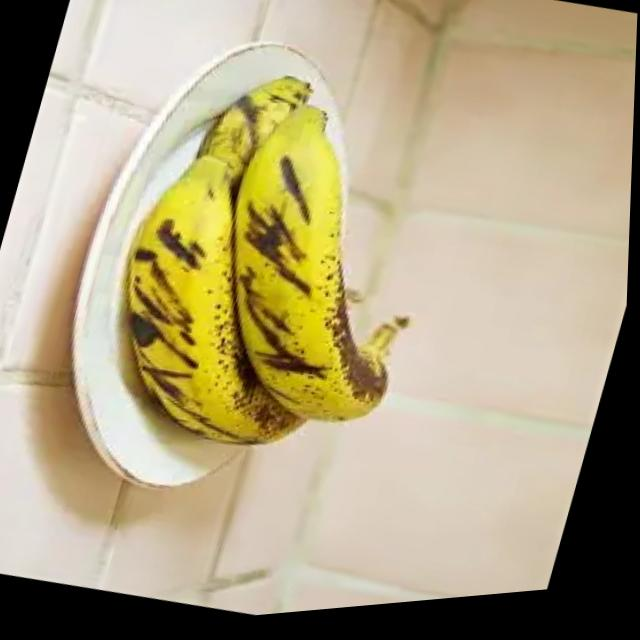BANANA: (122, 73, 411, 447)
